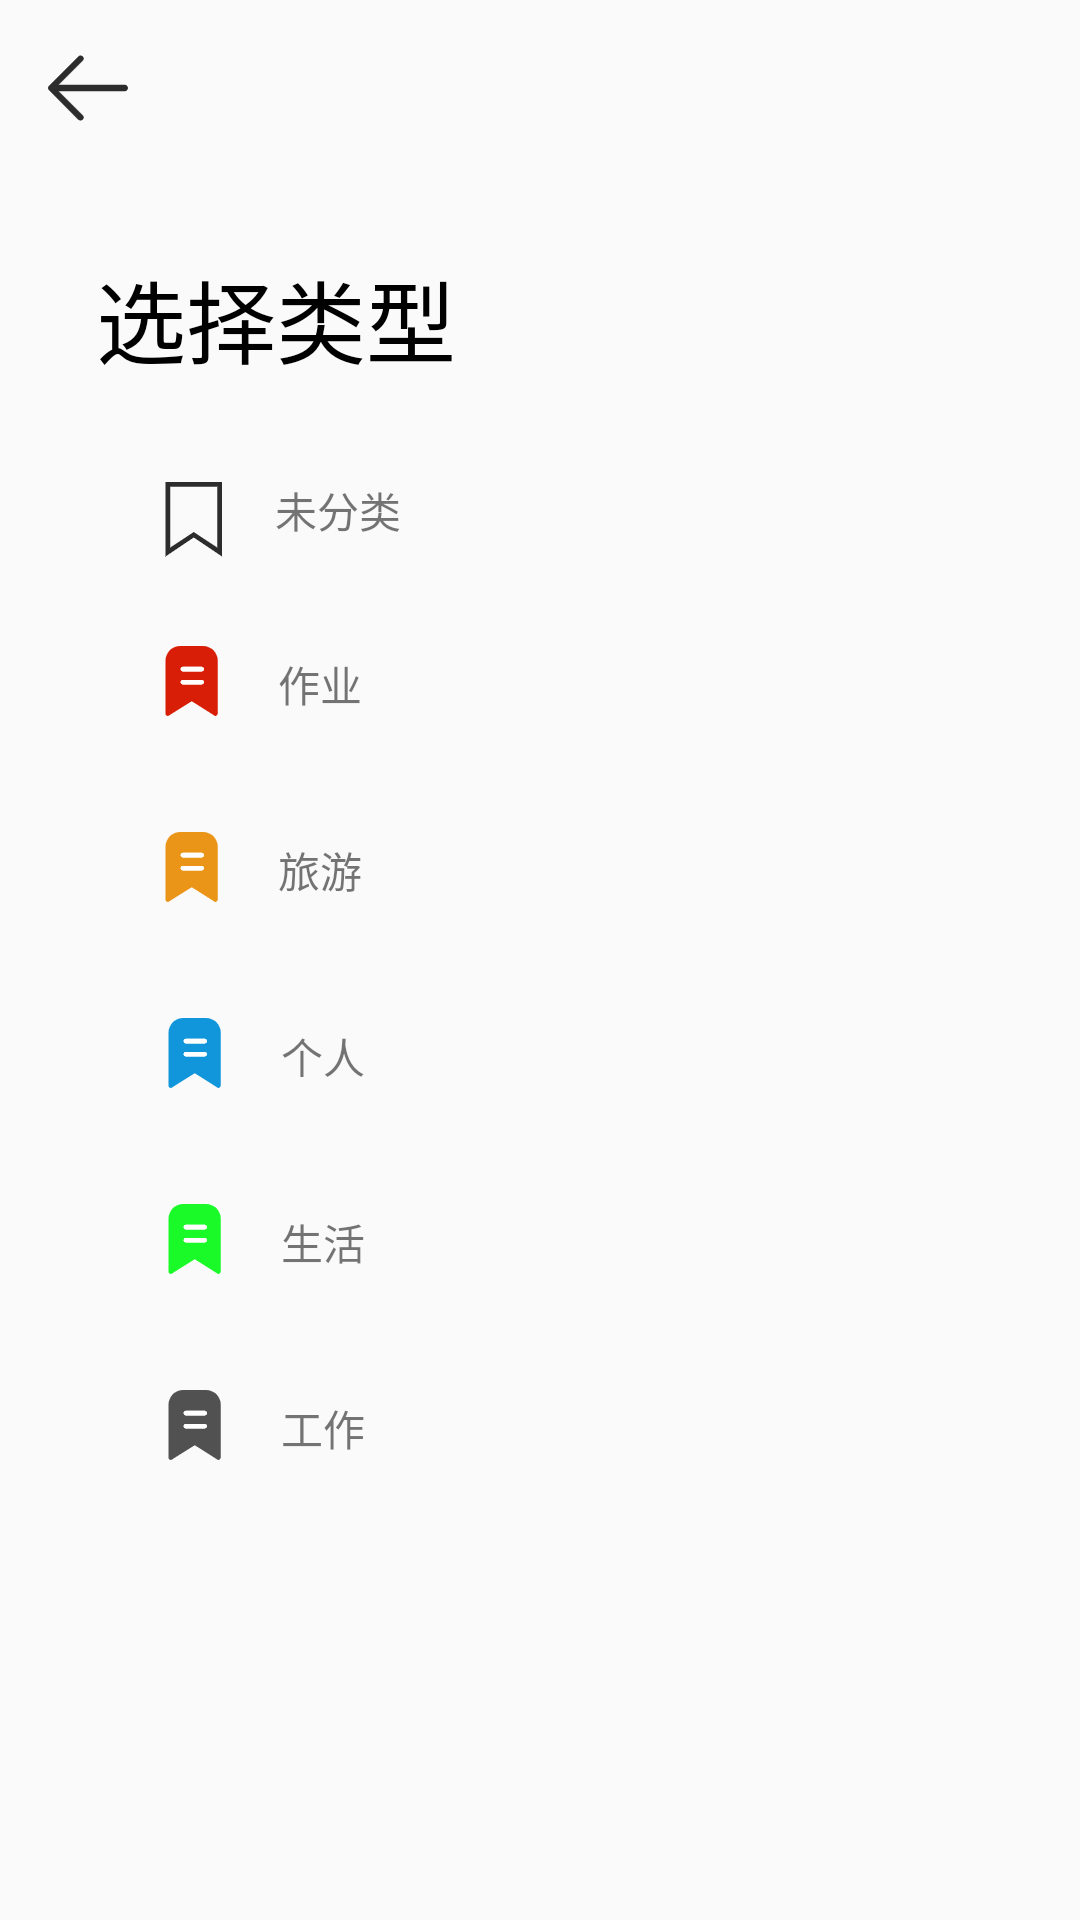

Where to tap for icons on this 1080x1920 app screen, as [x,y]:
back: [88,88]
book: [193,519]
